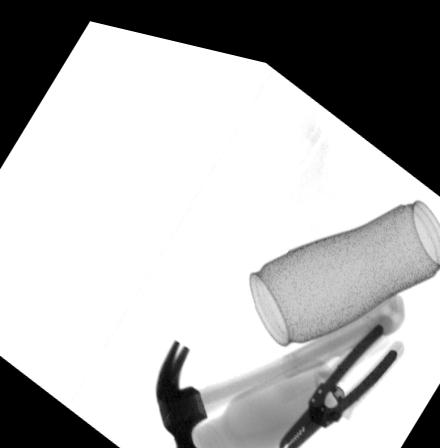Hammer: (155, 271, 408, 448)
Pliers: (279, 297, 406, 443)
